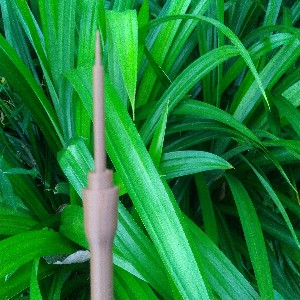solder: (80, 28, 120, 300)
